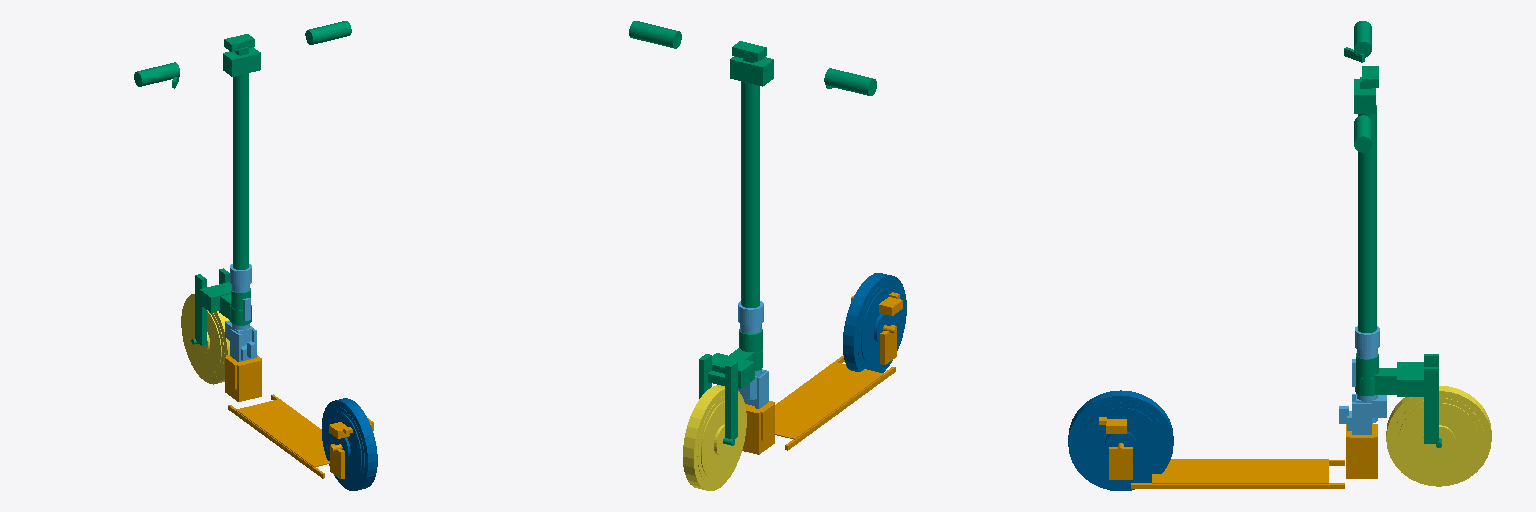
robot.urdf — folding_kick_scooter:
<robot name="folding_kick_scooter">
  <link name="deck">
    <inertial>
      <origin xyz="0 0 0.085" rpy="0 0 0" />
      <mass value="4.2" />
      <inertia ixx="0.112175" ixy="0" ixz="0" iyy="0.01603" iyz="0" izz="0.107975" />
    </inertial>
    <visual>
      <origin xyz="0 0 0.017" rpy="0 0 0" />
      <geometry>
        <mesh filename="meshes/folding_scooter_deck.glb" />
      </geometry>
    </visual>
    <visual>
      <origin xyz="0 -0.01 0.036" rpy="0 0 0" />
      <geometry>
        <box size="0.108 0.335 0.002" />
      </geometry>
    </visual>
    <visual>
      <origin xyz="0.053 -0.015 0.03" rpy="0 0 0" />
      <geometry>
        <box size="0.006 0.405 0.01" />
      </geometry>
    </visual>
    <visual>
      <origin xyz="-0.053 -0.015 0.03" rpy="0 0 0" />
      <geometry>
        <box size="0.006 0.405 0.01" />
      </geometry>
    </visual>
    <visual>
      <origin xyz="0 0.22 0.078" rpy="0 0 0" />
      <geometry>
        <box size="0.058 0.06 0.086" />
      </geometry>
    </visual>
    <visual>
      <origin xyz="0.026 0.22 0.092" rpy="0 0 0" />
      <geometry>
        <box size="0.014 0.046 0.058" />
      </geometry>
    </visual>
    <visual>
      <origin xyz="-0.026 0.22 0.092" rpy="0 0 0" />
      <geometry>
        <box size="0.014 0.046 0.058" />
      </geometry>
    </visual>
    <visual>
      <origin xyz="0.03 -0.236 0.067" rpy="0 0 0" />
      <geometry>
        <box size="0.01 0.045 0.064" />
      </geometry>
    </visual>
    <visual>
      <origin xyz="-0.03 -0.236 0.067" rpy="0 0 0" />
      <geometry>
        <box size="0.01 0.045 0.064" />
      </geometry>
    </visual>
    <visual>
      <origin xyz="0 -0.236 0.1" rpy="0 1.5708 0" />
      <geometry>
        <cylinder radius="0.006" length="0.09" />
      </geometry>
    </visual>
    <visual>
      <origin xyz="0 -0.236 0.085" rpy="0 0 0" />
      <geometry>
        <box size="0.028 0.018 0.1" />
      </geometry>
    </visual>
    <visual>
      <origin xyz="0 -0.244 0.144" rpy="0 0 0" />
      <geometry>
        <box size="0.09 0.04 0.018" />
      </geometry>
    </visual>
    <visual>
      <origin xyz="0 -0.27 0.153" rpy="0 0 0" />
      <geometry>
        <box size="0.064 0.014 0.008" />
      </geometry>
    </visual>
    <collision name="deck__visual_1__hull_001">
      <origin xyz="0 0 0.017" rpy="0 0 0" />
      <geometry>
        <mesh filename="meshes/collision/cache/da097f06f194ee12f7040289__hull_001.obj" />
      </geometry>
    </collision>
    <collision name="deck__visual_2">
      <origin xyz="0 -0.01 0.036" rpy="0 0 0" />
      <geometry>
        <box size="0.108 0.335 0.002" />
      </geometry>
    </collision>
    <collision name="deck__visual_3">
      <origin xyz="0.053 -0.015 0.03" rpy="0 0 0" />
      <geometry>
        <box size="0.006 0.405 0.01" />
      </geometry>
    </collision>
    <collision name="deck__visual_4">
      <origin xyz="-0.053 -0.015 0.03" rpy="0 0 0" />
      <geometry>
        <box size="0.006 0.405 0.01" />
      </geometry>
    </collision>
    <collision name="deck__visual_5">
      <origin xyz="0 0.22 0.078" rpy="0 0 0" />
      <geometry>
        <box size="0.058 0.06 0.086" />
      </geometry>
    </collision>
    <collision name="deck__visual_6">
      <origin xyz="0.026 0.22 0.092" rpy="0 0 0" />
      <geometry>
        <box size="0.014 0.046 0.058" />
      </geometry>
    </collision>
    <collision name="deck__visual_7">
      <origin xyz="-0.026 0.22 0.092" rpy="0 0 0" />
      <geometry>
        <box size="0.014 0.046 0.058" />
      </geometry>
    </collision>
    <collision name="deck__visual_8">
      <origin xyz="0.03 -0.236 0.067" rpy="0 0 0" />
      <geometry>
        <box size="0.01 0.045 0.064" />
      </geometry>
    </collision>
    <collision name="deck__visual_9">
      <origin xyz="-0.03 -0.236 0.067" rpy="0 0 0" />
      <geometry>
        <box size="0.01 0.045 0.064" />
      </geometry>
    </collision>
    <collision name="deck__visual_10">
      <origin xyz="0 -0.236 0.1" rpy="0 1.5708 0" />
      <geometry>
        <cylinder radius="0.006" length="0.09" />
      </geometry>
    </collision>
    <collision name="deck__visual_11">
      <origin xyz="0 -0.236 0.085" rpy="0 0 0" />
      <geometry>
        <box size="0.028 0.018 0.1" />
      </geometry>
    </collision>
    <collision name="deck__visual_12">
      <origin xyz="0 -0.244 0.144" rpy="0 0 0" />
      <geometry>
        <box size="0.09 0.04 0.018" />
      </geometry>
    </collision>
    <collision name="deck__visual_13">
      <origin xyz="0 -0.27 0.153" rpy="0 0 0" />
      <geometry>
        <box size="0.064 0.014 0.008" />
      </geometry>
    </collision>
  </link>
  <link name="stem_base">
    <inertial>
      <origin xyz="0 0.008 0.11" rpy="0 0 0" />
      <mass value="0.8" />
      <inertia ixx="0.000906667" ixy="0" ixz="0" iyy="0.000906667" iyz="0" izz="0.00048" />
    </inertial>
    <visual>
      <origin xyz="0 0 0.01" rpy="0 0 0" />
      <geometry>
        <box size="0.03 0.022 0.02" />
      </geometry>
    </visual>
    <visual>
      <origin xyz="0.019 0 0.032" rpy="0 0 0" />
      <geometry>
        <box size="0.008 0.038 0.064" />
      </geometry>
    </visual>
    <visual>
      <origin xyz="-0.019 0 0.032" rpy="0 0 0" />
      <geometry>
        <box size="0.008 0.038 0.064" />
      </geometry>
    </visual>
    <visual>
      <origin xyz="0 0.018 0.05" rpy="0 0 0" />
      <geometry>
        <box size="0.038 0.06 0.036" />
      </geometry>
    </visual>
    <visual>
      <origin xyz="0 0.01 0.105" rpy="0 0 0" />
      <geometry>
        <cylinder radius="0.02" length="0.17" />
      </geometry>
    </visual>
    <visual>
      <origin xyz="0 0.01 0.192" rpy="0 0 0" />
      <geometry>
        <cylinder radius="0.024" length="0.034" />
      </geometry>
    </visual>
    <visual>
      <origin xyz="0 -0.018 0.018" rpy="0 0 0" />
      <geometry>
        <box size="0.034 0.02 0.026" />
      </geometry>
    </visual>
    <visual>
      <origin xyz="0 -0.034 0.03" rpy="0 0 0" />
      <geometry>
        <box size="0.012 0.018 0.032" />
      </geometry>
    </visual>
    <visual>
      <origin xyz="0 -0.012 0.118" rpy="0 0 0" />
      <geometry>
        <box size="0.016 0.014 0.05" />
      </geometry>
    </visual>
    <collision name="stem_base__visual_1">
      <origin xyz="0 0 0.01" rpy="0 0 0" />
      <geometry>
        <box size="0.03 0.022 0.02" />
      </geometry>
    </collision>
    <collision name="stem_base__visual_2">
      <origin xyz="0.019 0 0.032" rpy="0 0 0" />
      <geometry>
        <box size="0.008 0.038 0.064" />
      </geometry>
    </collision>
    <collision name="stem_base__visual_3">
      <origin xyz="-0.019 0 0.032" rpy="0 0 0" />
      <geometry>
        <box size="0.008 0.038 0.064" />
      </geometry>
    </collision>
    <collision name="stem_base__visual_4">
      <origin xyz="0 0.018 0.05" rpy="0 0 0" />
      <geometry>
        <box size="0.038 0.06 0.036" />
      </geometry>
    </collision>
    <collision name="stem_base__visual_5">
      <origin xyz="0 0.01 0.105" rpy="0 0 0" />
      <geometry>
        <cylinder radius="0.02" length="0.17" />
      </geometry>
    </collision>
    <collision name="stem_base__visual_6">
      <origin xyz="0 0.01 0.192" rpy="0 0 0" />
      <geometry>
        <cylinder radius="0.024" length="0.034" />
      </geometry>
    </collision>
    <collision name="stem_base__visual_7">
      <origin xyz="0 -0.018 0.018" rpy="0 0 0" />
      <geometry>
        <box size="0.034 0.02 0.026" />
      </geometry>
    </collision>
    <collision name="stem_base__visual_8">
      <origin xyz="0 -0.034 0.03" rpy="0 0 0" />
      <geometry>
        <box size="0.012 0.018 0.032" />
      </geometry>
    </collision>
    <collision name="stem_base__visual_9">
      <origin xyz="0 -0.012 0.118" rpy="0 0 0" />
      <geometry>
        <box size="0.016 0.014 0.05" />
      </geometry>
    </collision>
  </link>
  <link name="steering_assembly">
    <inertial>
      <origin xyz="0 0.025 0.318" rpy="0 0 0" />
      <mass value="1.9" />
      <inertia ixx="0.0945567" ixy="0" ixz="0" iyy="0.131037" iyz="0" izz="0.0426867" />
    </inertial>
    <visual>
      <origin xyz="0 0 -0.092" rpy="0 0 0" />
      <geometry>
        <cylinder radius="0.023" length="0.036" />
      </geometry>
    </visual>
    <visual>
      <origin xyz="0 0 -0.06" rpy="0 0 0" />
      <geometry>
        <cylinder radius="0.022" length="0.052" />
      </geometry>
    </visual>
    <visual>
      <origin xyz="0 0 0.226" rpy="0 0 0" />
      <geometry>
        <cylinder radius="0.018" length="0.52" />
      </geometry>
    </visual>
    <visual>
      <origin xyz="0 0.034 -0.09" rpy="0 0 0" />
      <geometry>
        <box size="0.036 0.06 0.04" />
      </geometry>
    </visual>
    <visual>
      <origin xyz="0 0.082 -0.086" rpy="0 0 0" />
      <geometry>
        <box size="0.082 0.05 0.036" />
      </geometry>
    </visual>
    <visual>
      <origin xyz="0 0.11 -0.09" rpy="0 0 0" />
      <geometry>
        <box size="0.06 0.024 0.018" />
      </geometry>
    </visual>
    <visual>
      <origin xyz="0.029 0.122 -0.126" rpy="0 0 0" />
      <geometry>
        <box size="0.012 0.028 0.156" />
      </geometry>
    </visual>
    <visual>
      <origin xyz="-0.029 0.122 -0.126" rpy="0 0 0" />
      <geometry>
        <box size="0.012 0.028 0.156" />
      </geometry>
    </visual>
    <visual>
      <origin xyz="0 0.136 -0.204" rpy="0 1.5708 0" />
      <geometry>
        <cylinder radius="0.006" length="0.082" />
      </geometry>
    </visual>
    <visual>
      <origin xyz="0 -0.004 0.506" rpy="0 0 0" />
      <geometry>
        <box size="0.072 0.042 0.04" />
      </geometry>
    </visual>
    <visual>
      <origin xyz="0 -0.002 0.532" rpy="0 0 0" />
      <geometry>
        <box size="0.024 0.024 0.018" />
      </geometry>
    </visual>
    <visual>
      <origin xyz="0 -0.008 0.526" rpy="0 0 0" />
      <geometry>
        <mesh filename="meshes/folding_scooter_handlebar.glb" />
      </geometry>
    </visual>
    <visual>
      <origin xyz="0 0.006 0.546" rpy="0 0 0" />
      <geometry>
        <box size="0.058 0.032 0.018" />
      </geometry>
    </visual>
    <visual>
      <origin xyz="0.212 -0.008 0.526" rpy="0 1.5708 0" />
      <geometry>
        <cylinder radius="0.017" length="0.095" />
      </geometry>
    </visual>
    <visual>
      <origin xyz="-0.212 -0.008 0.526" rpy="0 1.5708 0" />
      <geometry>
        <cylinder radius="0.017" length="0.095" />
      </geometry>
    </visual>
    <visual>
      <origin xyz="-0.176 -0.024 0.51" rpy="0 0 -0.72" />
      <geometry>
        <box size="0.008 0.046 0.016" />
      </geometry>
    </visual>
    <collision name="steering_assembly__visual_1">
      <origin xyz="0 0 -0.092" rpy="0 0 0" />
      <geometry>
        <cylinder radius="0.023" length="0.036" />
      </geometry>
    </collision>
    <collision name="steering_assembly__visual_2">
      <origin xyz="0 0 -0.06" rpy="0 0 0" />
      <geometry>
        <cylinder radius="0.022" length="0.052" />
      </geometry>
    </collision>
    <collision name="steering_assembly__visual_3">
      <origin xyz="0 0 0.226" rpy="0 0 0" />
      <geometry>
        <cylinder radius="0.018" length="0.52" />
      </geometry>
    </collision>
    <collision name="steering_assembly__visual_4">
      <origin xyz="0 0.034 -0.09" rpy="0 0 0" />
      <geometry>
        <box size="0.036 0.06 0.04" />
      </geometry>
    </collision>
    <collision name="steering_assembly__visual_5">
      <origin xyz="0 0.082 -0.086" rpy="0 0 0" />
      <geometry>
        <box size="0.082 0.05 0.036" />
      </geometry>
    </collision>
    <collision name="steering_assembly__visual_6">
      <origin xyz="0 0.11 -0.09" rpy="0 0 0" />
      <geometry>
        <box size="0.06 0.024 0.018" />
      </geometry>
    </collision>
    <collision name="steering_assembly__visual_7">
      <origin xyz="0.029 0.122 -0.126" rpy="0 0 0" />
      <geometry>
        <box size="0.012 0.028 0.156" />
      </geometry>
    </collision>
    <collision name="steering_assembly__visual_8">
      <origin xyz="-0.029 0.122 -0.126" rpy="0 0 0" />
      <geometry>
        <box size="0.012 0.028 0.156" />
      </geometry>
    </collision>
    <collision name="steering_assembly__visual_9">
      <origin xyz="0 0.136 -0.204" rpy="0 1.5708 0" />
      <geometry>
        <cylinder radius="0.006" length="0.082" />
      </geometry>
    </collision>
    <collision name="steering_assembly__visual_10">
      <origin xyz="0 -0.004 0.506" rpy="0 0 0" />
      <geometry>
        <box size="0.072 0.042 0.04" />
      </geometry>
    </collision>
    <collision name="steering_assembly__visual_11">
      <origin xyz="0 -0.002 0.532" rpy="0 0 0" />
      <geometry>
        <box size="0.024 0.024 0.018" />
      </geometry>
    </collision>
    <collision name="steering_assembly__visual_12__hull_001">
      <origin xyz="0 -0.008 0.526" rpy="0 0 0" />
      <geometry>
        <mesh filename="meshes/collision/cache/f7cd138d5e7661c4f6391a6b__hull_001.obj" />
      </geometry>
    </collision>
    <collision name="steering_assembly__visual_13">
      <origin xyz="0 0.006 0.546" rpy="0 0 0" />
      <geometry>
        <box size="0.058 0.032 0.018" />
      </geometry>
    </collision>
    <collision name="steering_assembly__visual_14">
      <origin xyz="0.212 -0.008 0.526" rpy="0 1.5708 0" />
      <geometry>
        <cylinder radius="0.017" length="0.095" />
      </geometry>
    </collision>
    <collision name="steering_assembly__visual_15">
      <origin xyz="-0.212 -0.008 0.526" rpy="0 1.5708 0" />
      <geometry>
        <cylinder radius="0.017" length="0.095" />
      </geometry>
    </collision>
    <collision name="steering_assembly__visual_16">
      <origin xyz="-0.176 -0.024 0.51" rpy="0 0 -0.72" />
      <geometry>
        <box size="0.008 0.046 0.016" />
      </geometry>
    </collision>
  </link>
  <link name="front_wheel">
    <inertial>
      <origin xyz="0 0 0" rpy="0 1.5708 0" />
      <mass value="0.7" />
      <inertia ixx="0.0017836" ixy="0" ixz="0" iyy="0.0017836" iyz="0" izz="0.0035" />
    </inertial>
    <visual>
      <origin xyz="0 0 0" rpy="0 1.5708 0" />
      <geometry>
        <cylinder radius="0.1" length="0.024" />
      </geometry>
    </visual>
    <visual>
      <origin xyz="0 0 0" rpy="0 1.5708 0" />
      <geometry>
        <cylinder radius="0.086" length="0.026" />
      </geometry>
    </visual>
    <visual>
      <origin xyz="0 0 0" rpy="0 1.5708 0" />
      <geometry>
        <cylinder radius="0.076" length="0.03" />
      </geometry>
    </visual>
    <visual>
      <origin xyz="0 0 0" rpy="0 1.5708 0" />
      <geometry>
        <cylinder radius="0.03" length="0.042" />
      </geometry>
    </visual>
    <visual>
      <origin xyz="0 0.051 0" rpy="0 0 0" />
      <geometry>
        <box size="0.008 0.058 0.018" />
      </geometry>
    </visual>
    <visual>
      <origin xyz="0 0.0255 0.0441673" rpy="1.0472 0 0" />
      <geometry>
        <box size="0.008 0.058 0.018" />
      </geometry>
    </visual>
    <visual>
      <origin xyz="0 -0.0255 0.0441673" rpy="2.0944 0 0" />
      <geometry>
        <box size="0.008 0.058 0.018" />
      </geometry>
    </visual>
    <visual>
      <origin xyz="0 -0.051 6.2457e-18" rpy="3.14159 0 0" />
      <geometry>
        <box size="0.008 0.058 0.018" />
      </geometry>
    </visual>
    <visual>
      <origin xyz="0 -0.0255 -0.0441673" rpy="4.18879 0 0" />
      <geometry>
        <box size="0.008 0.058 0.018" />
      </geometry>
    </visual>
    <visual>
      <origin xyz="0 0.0255 -0.0441673" rpy="5.23599 0 0" />
      <geometry>
        <box size="0.008 0.058 0.018" />
      </geometry>
    </visual>
    <collision name="front_wheel__visual_1">
      <origin xyz="0 0 0" rpy="0 1.5708 0" />
      <geometry>
        <cylinder radius="0.1" length="0.024" />
      </geometry>
    </collision>
    <collision name="front_wheel__visual_2">
      <origin xyz="0 0 0" rpy="0 1.5708 0" />
      <geometry>
        <cylinder radius="0.086" length="0.026" />
      </geometry>
    </collision>
    <collision name="front_wheel__visual_3">
      <origin xyz="0 0 0" rpy="0 1.5708 0" />
      <geometry>
        <cylinder radius="0.076" length="0.03" />
      </geometry>
    </collision>
    <collision name="front_wheel__visual_4">
      <origin xyz="0 0 0" rpy="0 1.5708 0" />
      <geometry>
        <cylinder radius="0.03" length="0.042" />
      </geometry>
    </collision>
    <collision name="front_wheel__visual_5">
      <origin xyz="0 0.051 0" rpy="0 0 0" />
      <geometry>
        <box size="0.008 0.058 0.018" />
      </geometry>
    </collision>
    <collision name="front_wheel__visual_6">
      <origin xyz="0 0.0255 0.0441673" rpy="1.0472 0 0" />
      <geometry>
        <box size="0.008 0.058 0.018" />
      </geometry>
    </collision>
    <collision name="front_wheel__visual_7">
      <origin xyz="0 -0.0255 0.0441673" rpy="2.0944 0 0" />
      <geometry>
        <box size="0.008 0.058 0.018" />
      </geometry>
    </collision>
    <collision name="front_wheel__visual_8">
      <origin xyz="0 -0.051 6.2457e-18" rpy="3.14159 0 0" />
      <geometry>
        <box size="0.008 0.058 0.018" />
      </geometry>
    </collision>
    <collision name="front_wheel__visual_9">
      <origin xyz="0 -0.0255 -0.0441673" rpy="4.18879 0 0" />
      <geometry>
        <box size="0.008 0.058 0.018" />
      </geometry>
    </collision>
    <collision name="front_wheel__visual_10">
      <origin xyz="0 0.0255 -0.0441673" rpy="5.23599 0 0" />
      <geometry>
        <box size="0.008 0.058 0.018" />
      </geometry>
    </collision>
  </link>
  <link name="rear_wheel">
    <inertial>
      <origin xyz="0 0 0" rpy="0 1.5708 0" />
      <mass value="0.7" />
      <inertia ixx="0.0017836" ixy="0" ixz="0" iyy="0.0017836" iyz="0" izz="0.0035" />
    </inertial>
    <visual>
      <origin xyz="0 0 0" rpy="0 1.5708 0" />
      <geometry>
        <cylinder radius="0.1" length="0.024" />
      </geometry>
    </visual>
    <visual>
      <origin xyz="0 0 0" rpy="0 1.5708 0" />
      <geometry>
        <cylinder radius="0.086" length="0.026" />
      </geometry>
    </visual>
    <visual>
      <origin xyz="0 0 0" rpy="0 1.5708 0" />
      <geometry>
        <cylinder radius="0.076" length="0.03" />
      </geometry>
    </visual>
    <visual>
      <origin xyz="0 0 0" rpy="0 1.5708 0" />
      <geometry>
        <cylinder radius="0.03" length="0.042" />
      </geometry>
    </visual>
    <visual>
      <origin xyz="0 0.051 0" rpy="0 0 0" />
      <geometry>
        <box size="0.008 0.058 0.018" />
      </geometry>
    </visual>
    <visual>
      <origin xyz="0 0.0255 0.0441673" rpy="1.0472 0 0" />
      <geometry>
        <box size="0.008 0.058 0.018" />
      </geometry>
    </visual>
    <visual>
      <origin xyz="0 -0.0255 0.0441673" rpy="2.0944 0 0" />
      <geometry>
        <box size="0.008 0.058 0.018" />
      </geometry>
    </visual>
    <visual>
      <origin xyz="0 -0.051 6.2457e-18" rpy="3.14159 0 0" />
      <geometry>
        <box size="0.008 0.058 0.018" />
      </geometry>
    </visual>
    <visual>
      <origin xyz="0 -0.0255 -0.0441673" rpy="4.18879 0 0" />
      <geometry>
        <box size="0.008 0.058 0.018" />
      </geometry>
    </visual>
    <visual>
      <origin xyz="0 0.0255 -0.0441673" rpy="5.23599 0 0" />
      <geometry>
        <box size="0.008 0.058 0.018" />
      </geometry>
    </visual>
    <collision name="rear_wheel__visual_1">
      <origin xyz="0 0 0" rpy="0 1.5708 0" />
      <geometry>
        <cylinder radius="0.1" length="0.024" />
      </geometry>
    </collision>
    <collision name="rear_wheel__visual_2">
      <origin xyz="0 0 0" rpy="0 1.5708 0" />
      <geometry>
        <cylinder radius="0.086" length="0.026" />
      </geometry>
    </collision>
    <collision name="rear_wheel__visual_3">
      <origin xyz="0 0 0" rpy="0 1.5708 0" />
      <geometry>
        <cylinder radius="0.076" length="0.03" />
      </geometry>
    </collision>
    <collision name="rear_wheel__visual_4">
      <origin xyz="0 0 0" rpy="0 1.5708 0" />
      <geometry>
        <cylinder radius="0.03" length="0.042" />
      </geometry>
    </collision>
    <collision name="rear_wheel__visual_5">
      <origin xyz="0 0.051 0" rpy="0 0 0" />
      <geometry>
        <box size="0.008 0.058 0.018" />
      </geometry>
    </collision>
    <collision name="rear_wheel__visual_6">
      <origin xyz="0 0.0255 0.0441673" rpy="1.0472 0 0" />
      <geometry>
        <box size="0.008 0.058 0.018" />
      </geometry>
    </collision>
    <collision name="rear_wheel__visual_7">
      <origin xyz="0 -0.0255 0.0441673" rpy="2.0944 0 0" />
      <geometry>
        <box size="0.008 0.058 0.018" />
      </geometry>
    </collision>
    <collision name="rear_wheel__visual_8">
      <origin xyz="0 -0.051 6.2457e-18" rpy="3.14159 0 0" />
      <geometry>
        <box size="0.008 0.058 0.018" />
      </geometry>
    </collision>
    <collision name="rear_wheel__visual_9">
      <origin xyz="0 -0.0255 -0.0441673" rpy="4.18879 0 0" />
      <geometry>
        <box size="0.008 0.058 0.018" />
      </geometry>
    </collision>
    <collision name="rear_wheel__visual_10">
      <origin xyz="0 0.0255 -0.0441673" rpy="5.23599 0 0" />
      <geometry>
        <box size="0.008 0.058 0.018" />
      </geometry>
    </collision>
  </link>
  <joint name="stem_fold" type="revolute">
    <origin xyz="0 0.22 0.124" rpy="0 0 0" />
    <parent link="deck" />
    <child link="stem_base" />
    <axis xyz="1 0 0" />
    <limit effort="18" velocity="2" lower="0" upper="0.72" />
  </joint>
  <joint name="steering_head" type="revolute">
    <origin xyz="0 0.01 0.19" rpy="0 0 0" />
    <parent link="stem_base" />
    <child link="steering_assembly" />
    <axis xyz="0 0 1" />
    <limit effort="12" velocity="4" lower="-0.9" upper="0.9" />
  </joint>
  <joint name="front_wheel_roll" type="continuous">
    <origin xyz="0 0.136 -0.204" rpy="0 0 0" />
    <parent link="steering_assembly" />
    <child link="front_wheel" />
    <axis xyz="1 0 0" />
    <limit effort="4" velocity="25" />
  </joint>
  <joint name="rear_wheel_roll" type="continuous">
    <origin xyz="0 -0.236 0.1" rpy="0 0 0" />
    <parent link="deck" />
    <child link="rear_wheel" />
    <axis xyz="1 0 0" />
    <limit effort="4" velocity="25" />
  </joint>
</robot>

--- What the picture shows (computed from the rendered views, not written in the file) ---
3 views of the same robot in one strip: view 1: azimuth 30°, elevation 25°; view 2: azimuth 150°, elevation 25°; view 3: azimuth 270°, elevation 25° (orthographic).
Robot: folding_kick_scooter — 5 links, 4 joints (2 revolute, 2 continuous); root link deck; default pose: all joints at 0.
Visible links, largest first — view 1: steering_assembly, deck, rear_wheel, front_wheel, stem_base; view 2: steering_assembly, deck, front_wheel, rear_wheel, stem_base; view 3: steering_assembly, deck, front_wheel, rear_wheel, stem_base.
Boxes of the visible links, <box> form: steering_assembly: <box>134,21,351,345</box>; deck: <box>225,355,373,478</box>; rear_wheel: <box>322,398,377,490</box>; front_wheel: <box>181,294,229,384</box>; stem_base: <box>225,264,256,361</box>; steering_assembly: <box>629,21,876,445</box>; deck: <box>742,292,902,454</box>; front_wheel: <box>683,385,746,490</box>; rear_wheel: <box>843,273,906,372</box>; stem_base: <box>738,301,768,408</box>; steering_assembly: <box>1344,21,1441,447</box>; deck: <box>1099,417,1377,488</box>; front_wheel: <box>1386,386,1491,486</box>; rear_wheel: <box>1068,390,1173,490</box>; stem_base: <box>1339,326,1386,434</box>.
Bounding box of the posed robot: 0.519 × 0.802 × 0.869 m (x, y, z).
0 mesh visuals loaded from 2 distinct referenced files (none loaded); not drawn: 2 (reference not matched to a file when rendering).
